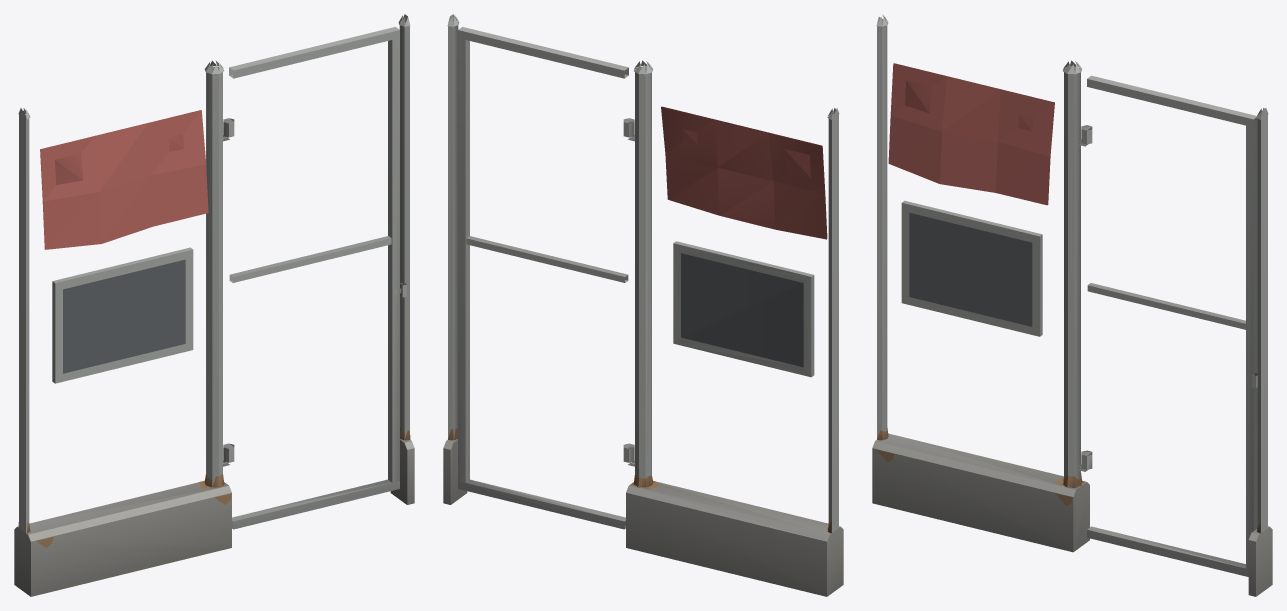
3 renders of one model, left to right at view 1: azimuth 30°, elevation 25°; view 2: azimuth 150°, elevation 25°; view 3: azimuth 330°, elevation 25°, orthographic.
Visible parts, largest first — view 1: mesh; view 2: mesh; view 3: mesh.
Part boxes in pixels (box(x1,y1,x2,y2)): mesh: box(14, 14, 414, 596); mesh: box(443, 14, 843, 596); mesh: box(872, 14, 1272, 596).
Bounding box in the file's own units: 2.4 × 2.88 × 0.1987.
